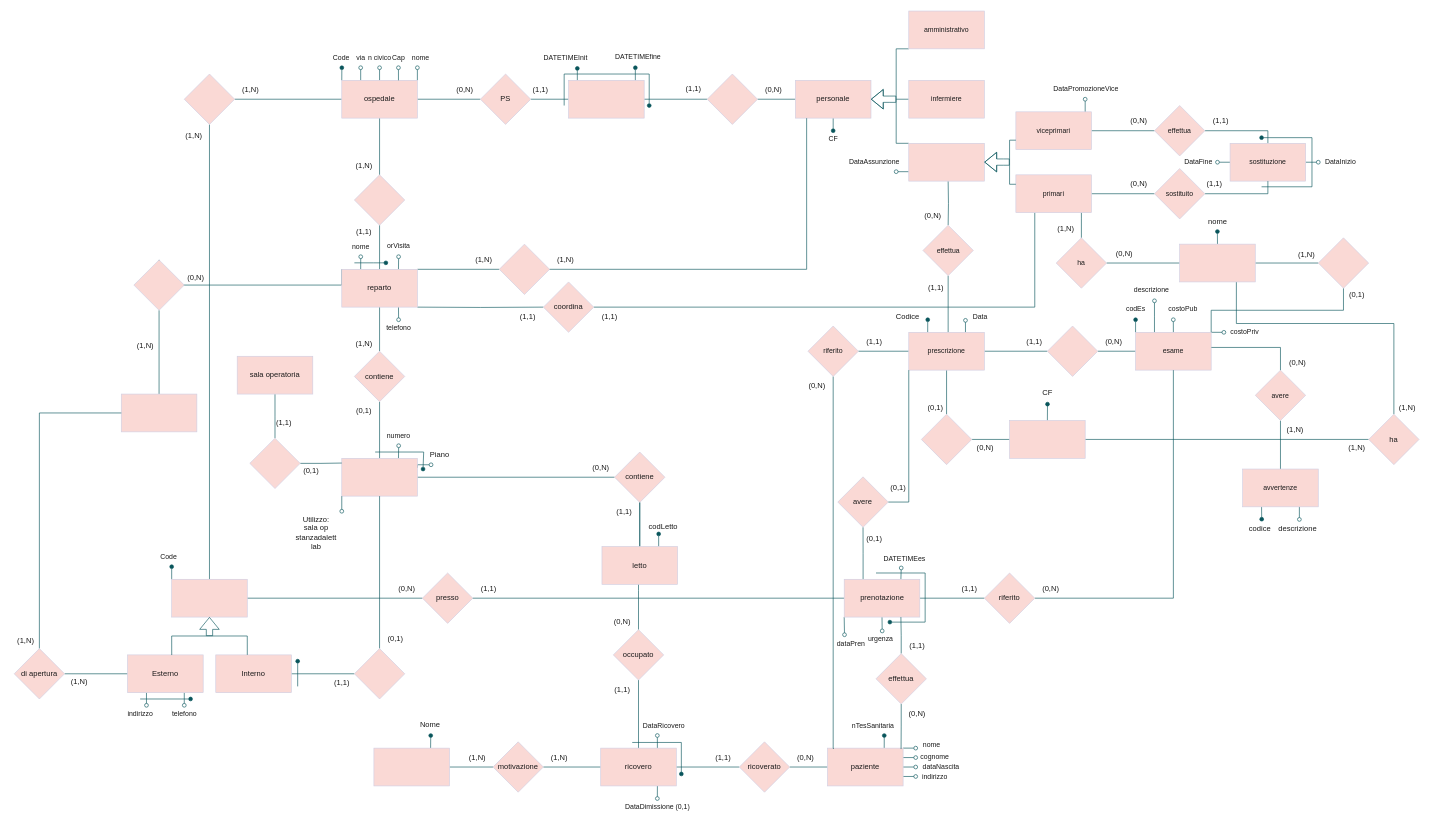
Some shapes in this 1431 by 827 pixel diagram are drawn without their labels. The box of each missing label's shape, as (x1, y1, x2, y2) in pixels:
compone: (354, 174, 405, 225)
di visita: (133, 259, 184, 310)
laboratorio: (171, 579, 247, 617)
lavora presso: (499, 243, 550, 295)
medico: (908, 143, 984, 181)
medico esterno: (1009, 420, 1085, 458)
necessita: (1318, 237, 1369, 288)
occupa: (354, 648, 405, 699)
orario: (121, 393, 197, 432)
partecipazione: (707, 73, 758, 124)
patologie: (373, 747, 450, 786)
prescritto: (1047, 325, 1098, 376)
prescrive: (921, 414, 972, 465)
SO-S: (249, 438, 300, 489)
specializzazioni: (1179, 243, 1255, 282)
stanza: (341, 458, 417, 496)
turni: (568, 80, 644, 118)
utilizza: (184, 73, 235, 124)
